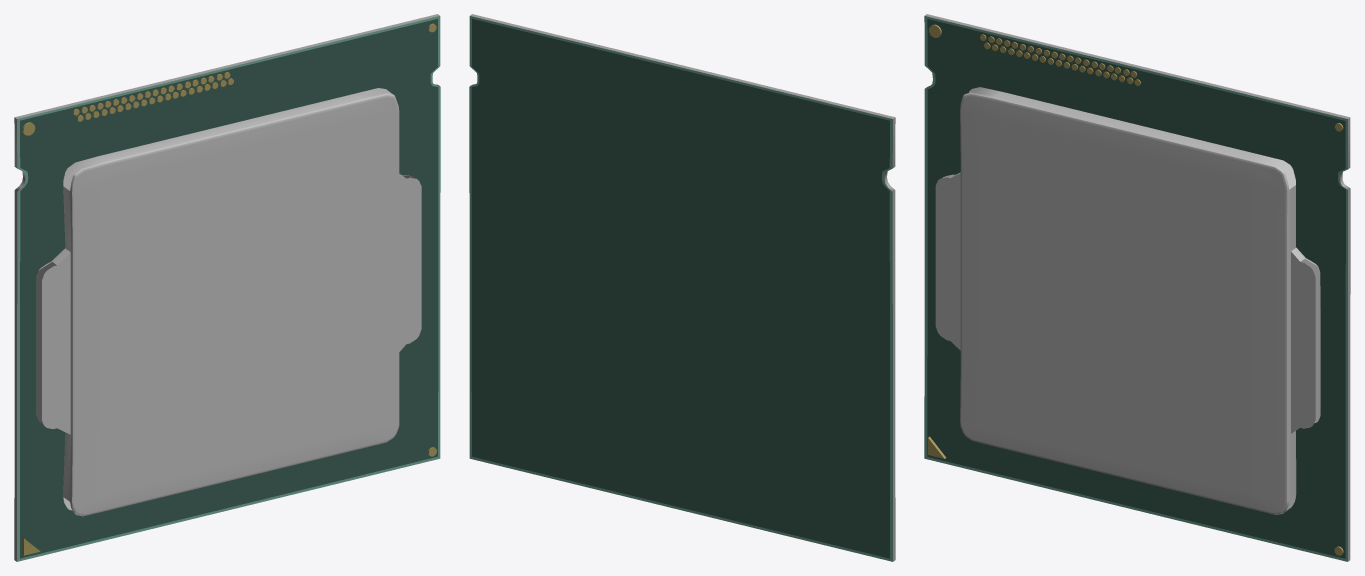
The model's file is CPUProcessor_Jonathan.fbx.
3 renders of one model, left to right at view 1: azimuth 30°, elevation 25°; view 2: azimuth 150°, elevation 25°; view 3: azimuth 330°, elevation 25°, orthographic.
Parts seen in each view (by area): view 1: pCube4; view 2: pCube4; view 3: pCube4.
Boxes of the visible parts, x1,y1,x2,y2 form: pCube4: (14,14,440,561); pCube4: (469,14,895,561); pCube4: (924,14,1350,561).
Bounding box in the file's own units: 3.27 × 3.27 × 0.1708.
